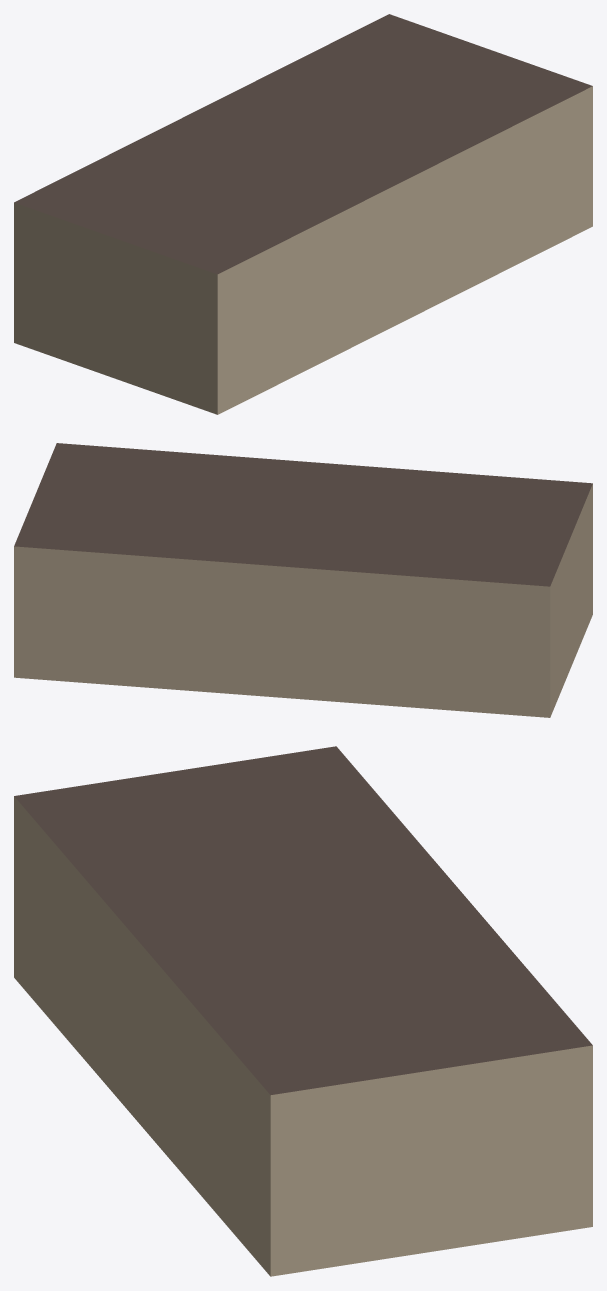
The picture shows the model from 3 angles, top to bottom: view 1: azimuth 30°, elevation 25°; view 2: azimuth 150°, elevation 25°; view 3: azimuth 270°, elevation 25°; orthographic projection. The views are drawn at different scales.
Visible parts, largest first — view 1: HP-w1287259391; view 2: HP-w1287259391; view 3: HP-w1287259391.
Part boxes in pixels (x1,y1,x2,y2): HP-w1287259391: (14,14,592,414); HP-w1287259391: (14,443,592,717); HP-w1287259391: (14,746,592,1276).
Bounding box in the file's own units: 37.11 × 9 × 26.02.
